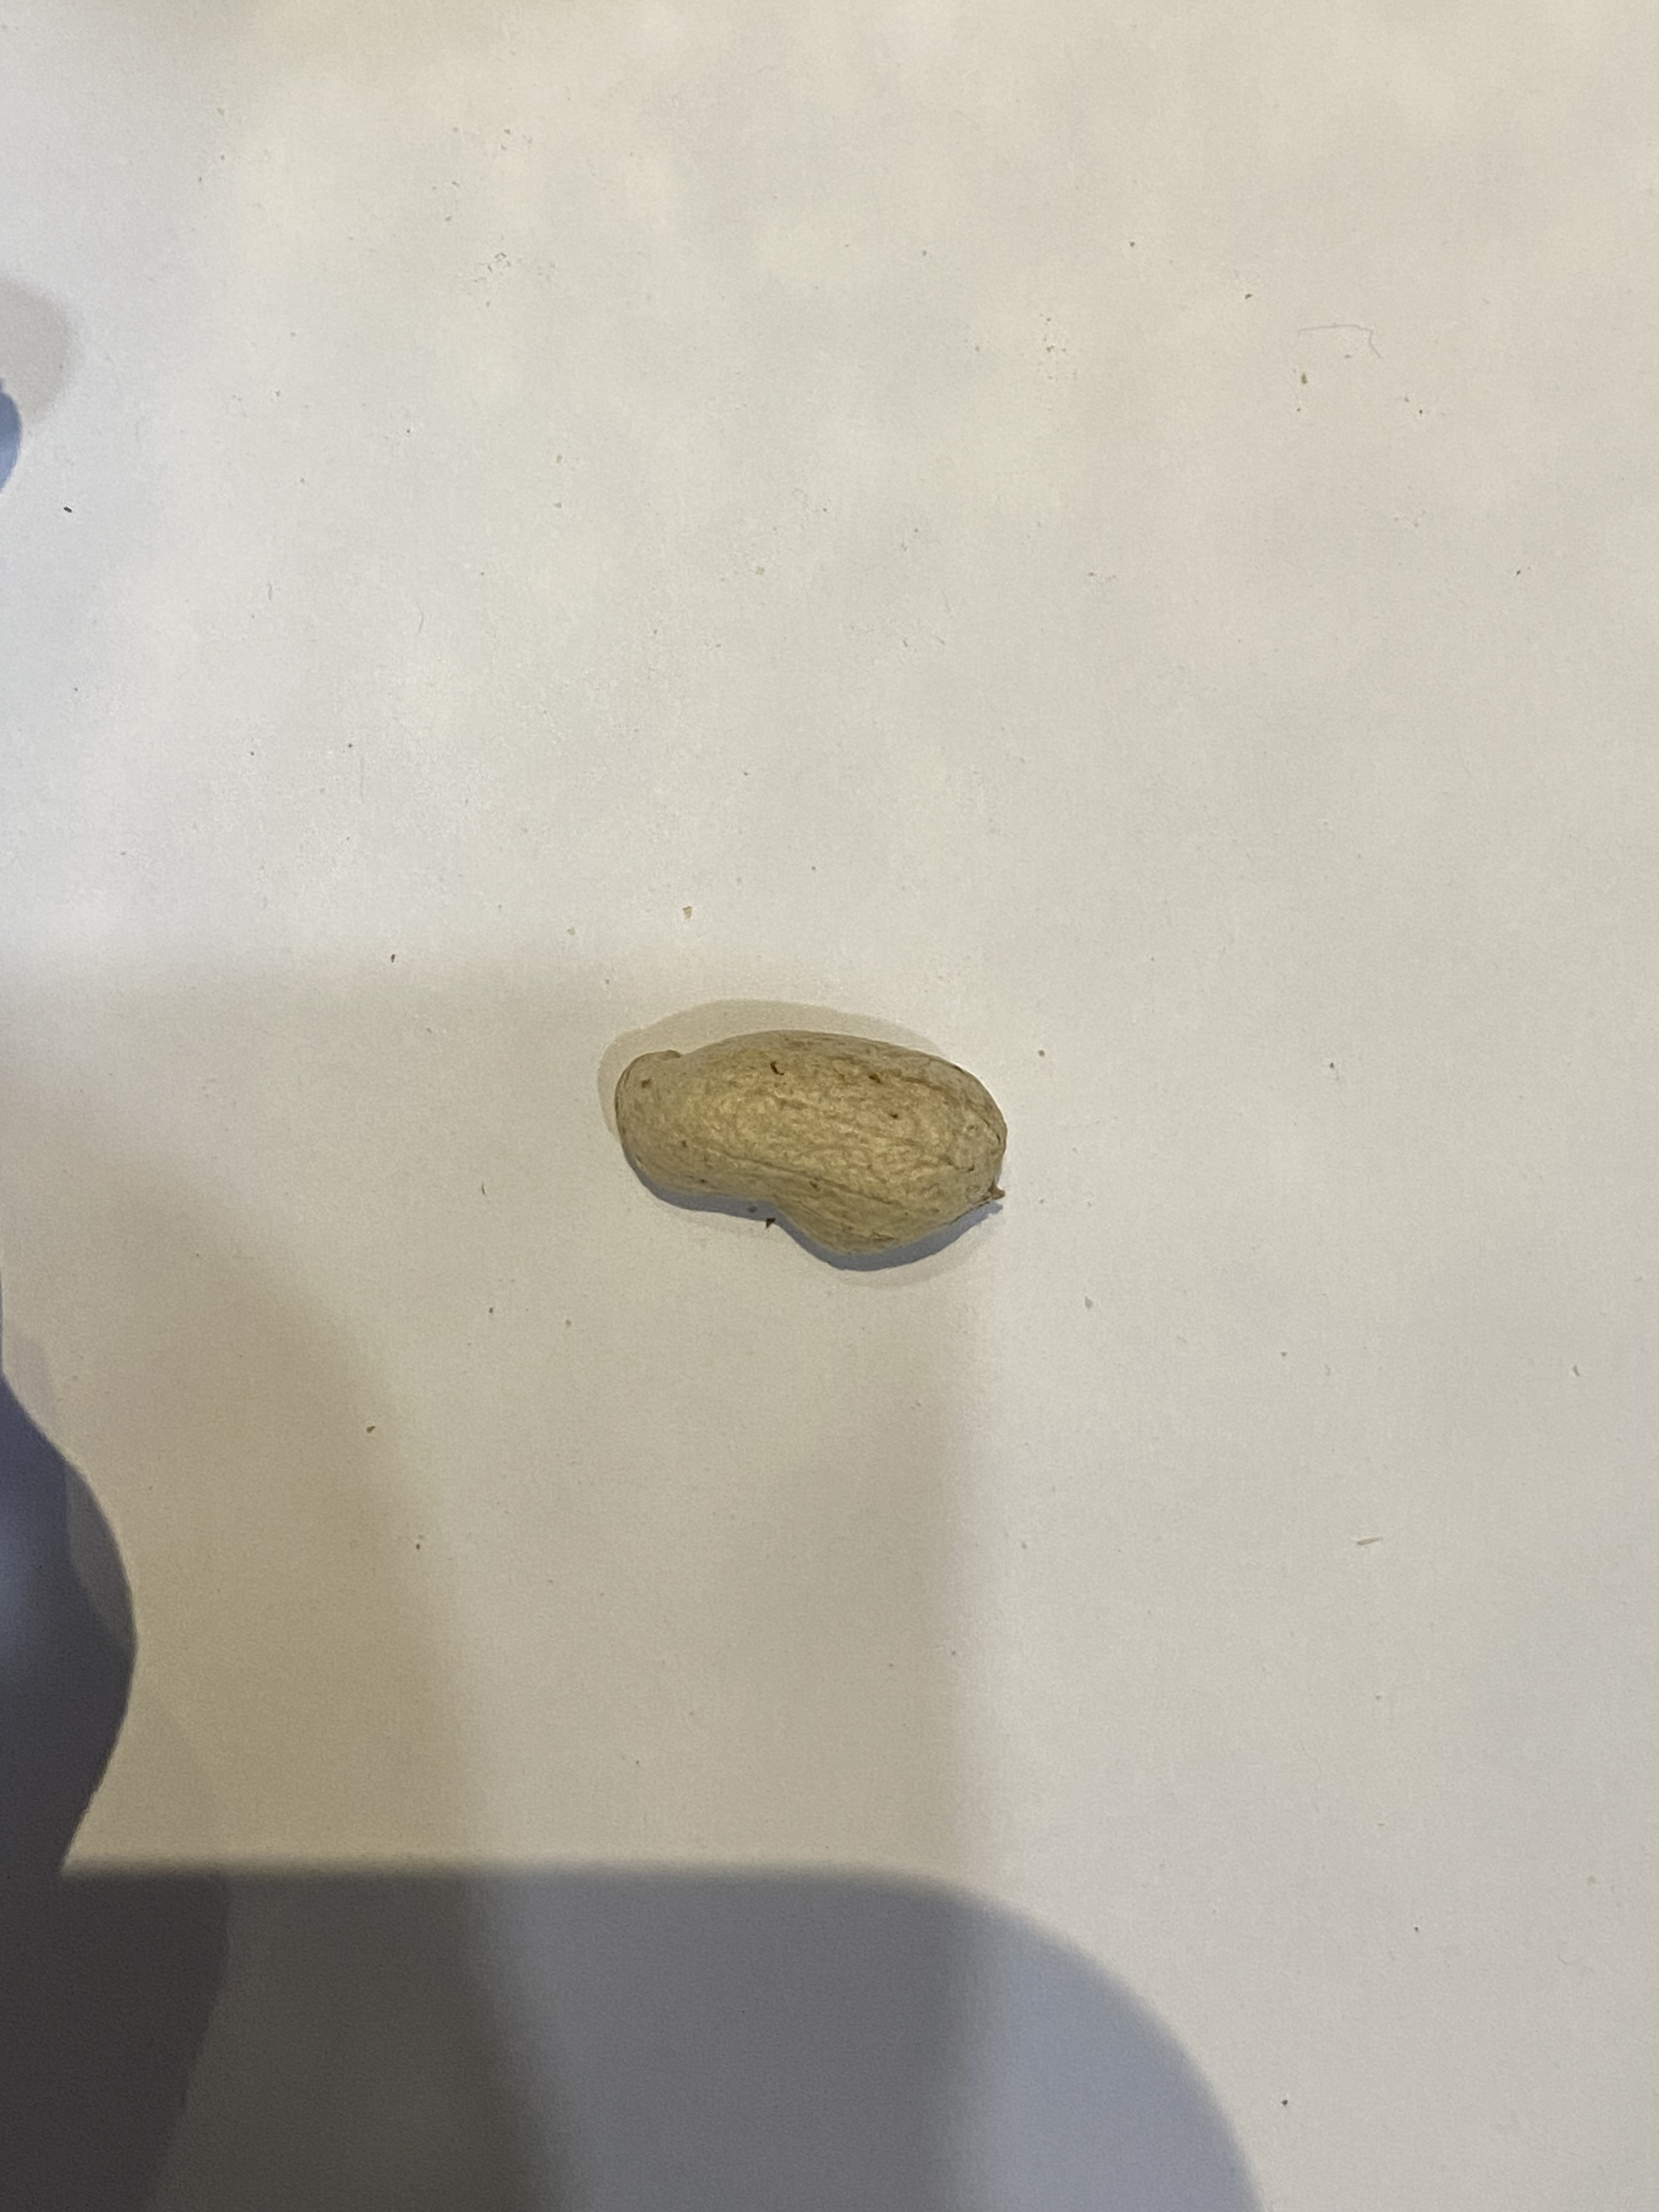kacang2: (580, 1031, 1019, 1261)
